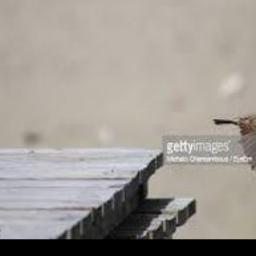Sparrow: (212, 116, 256, 174)
